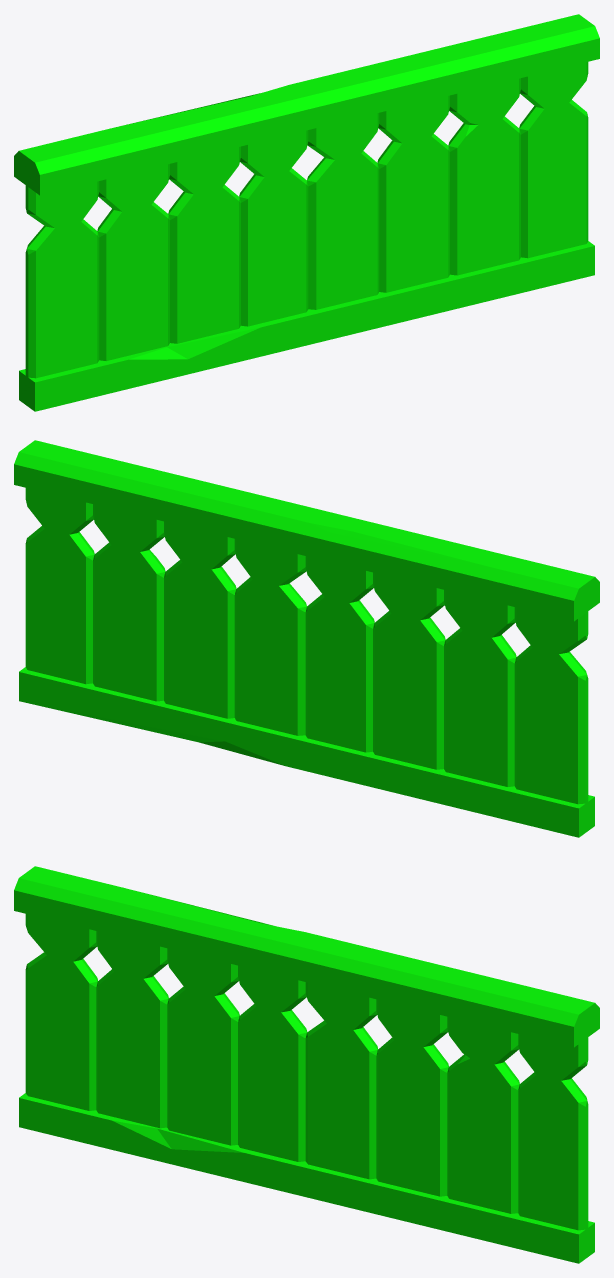
The model's file is SM_Railing_Wood_B_2m.fbx.
3 renders of one model, top to bottom at view 1: azimuth 30°, elevation 25°; view 2: azimuth 150°, elevation 25°; view 3: azimuth 330°, elevation 25°, orthographic.
Parts seen in each view (by area): view 1: railing-wood-b-2m; view 2: railing-wood-b-2m; view 3: railing-wood-b-2m.
Part boxes in pixels (x1,y1,x2,y2): railing-wood-b-2m: (14,14,599,411); railing-wood-b-2m: (14,440,599,837); railing-wood-b-2m: (14,866,599,1263).
Size of the model in its own units: 2 by 0.85 by 0.16.
